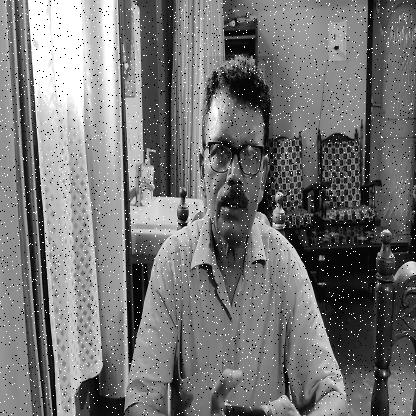Normal: (202, 56, 273, 248)
